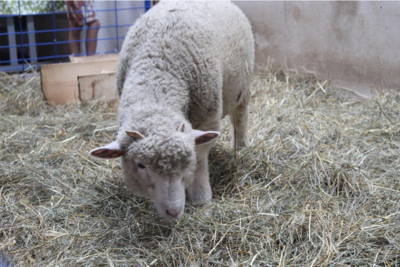koyun: (90, 4, 260, 222)
